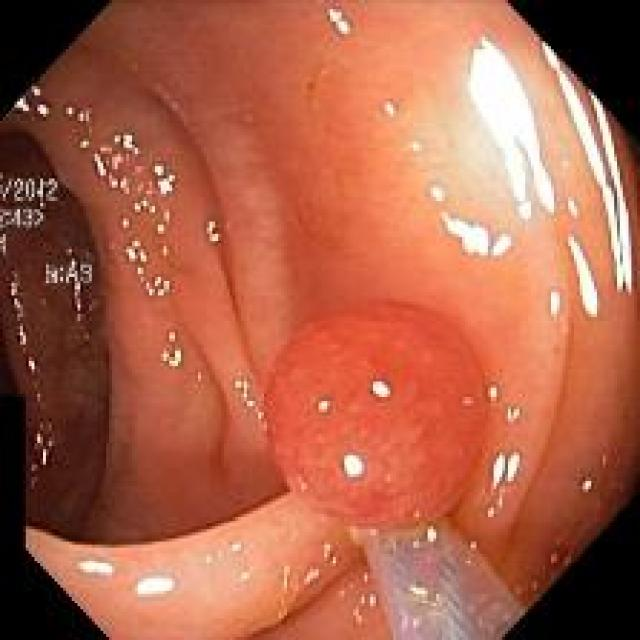Polyps: (265, 306, 487, 528)
